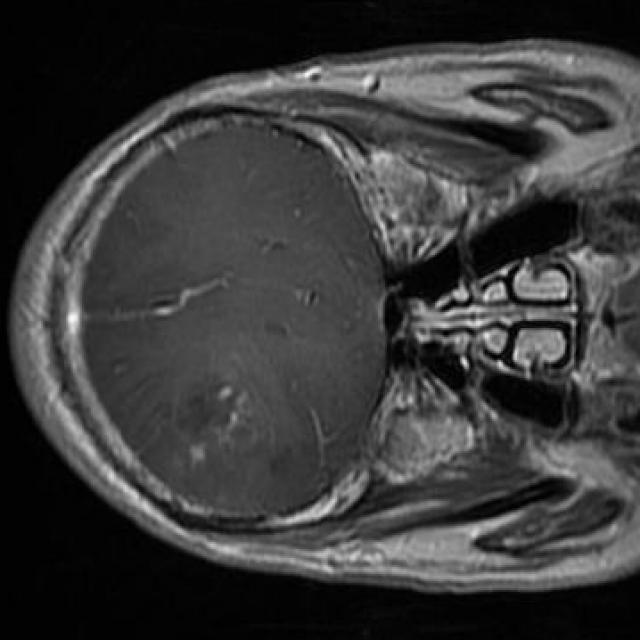glioma: (180, 376, 253, 464)
